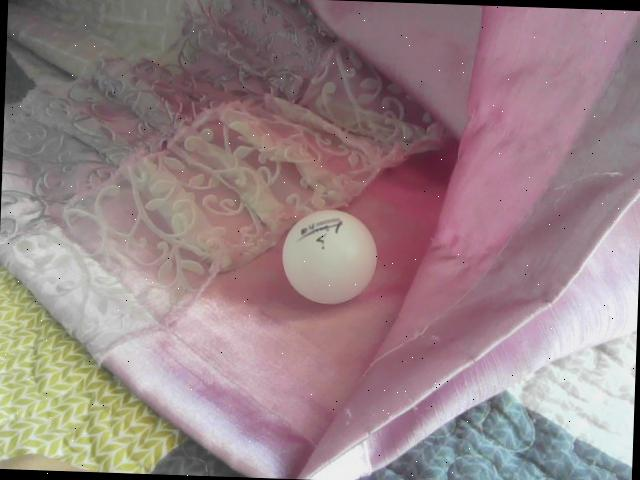ball: (281, 208, 378, 306)
